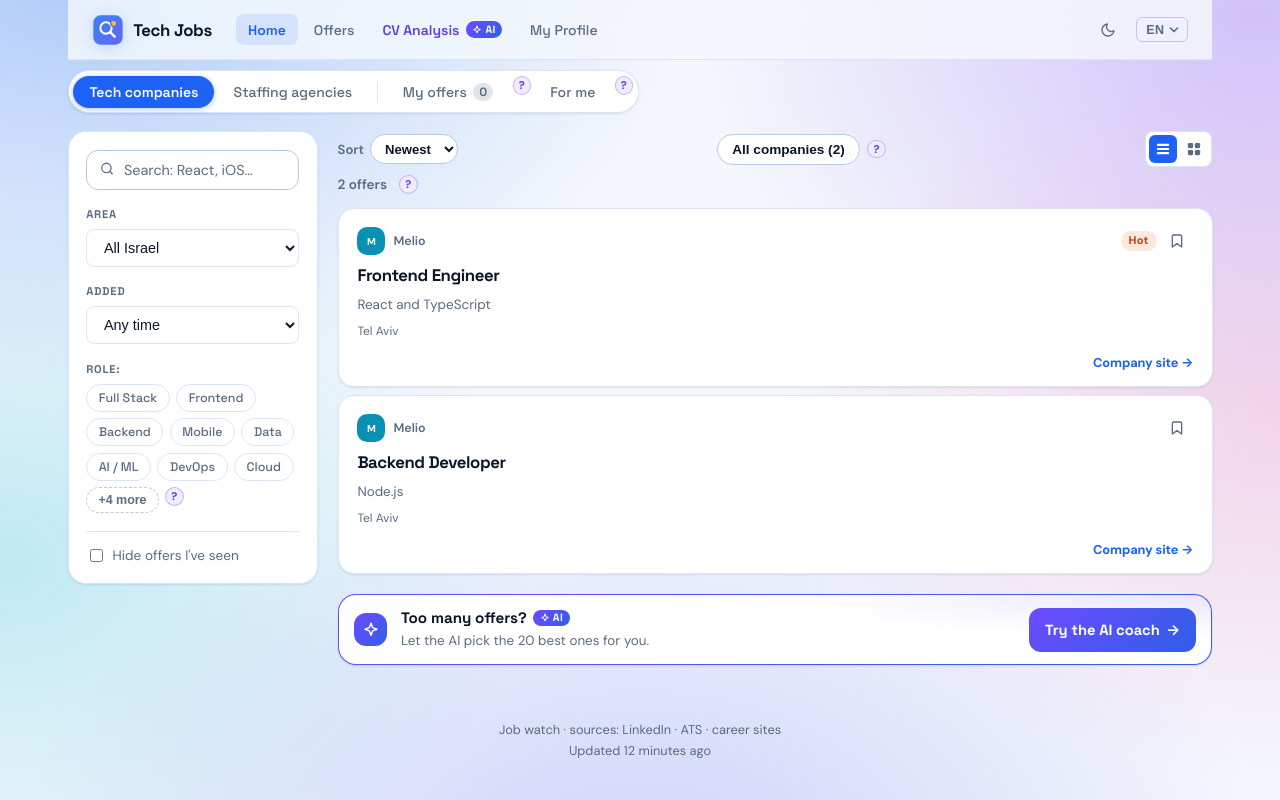
it: JobsPage (integration) › saves an offer: button state, toast, tab counter and localStorage
The width and height of the screenshot is (1280, 800).
Check: the link "Frontend Engineer" is shown, box x1=357 y1=264 x2=499 y2=286
Click the 2nd button named "Save": (1177, 428) x1=1161 y1=412 x2=1193 y2=444
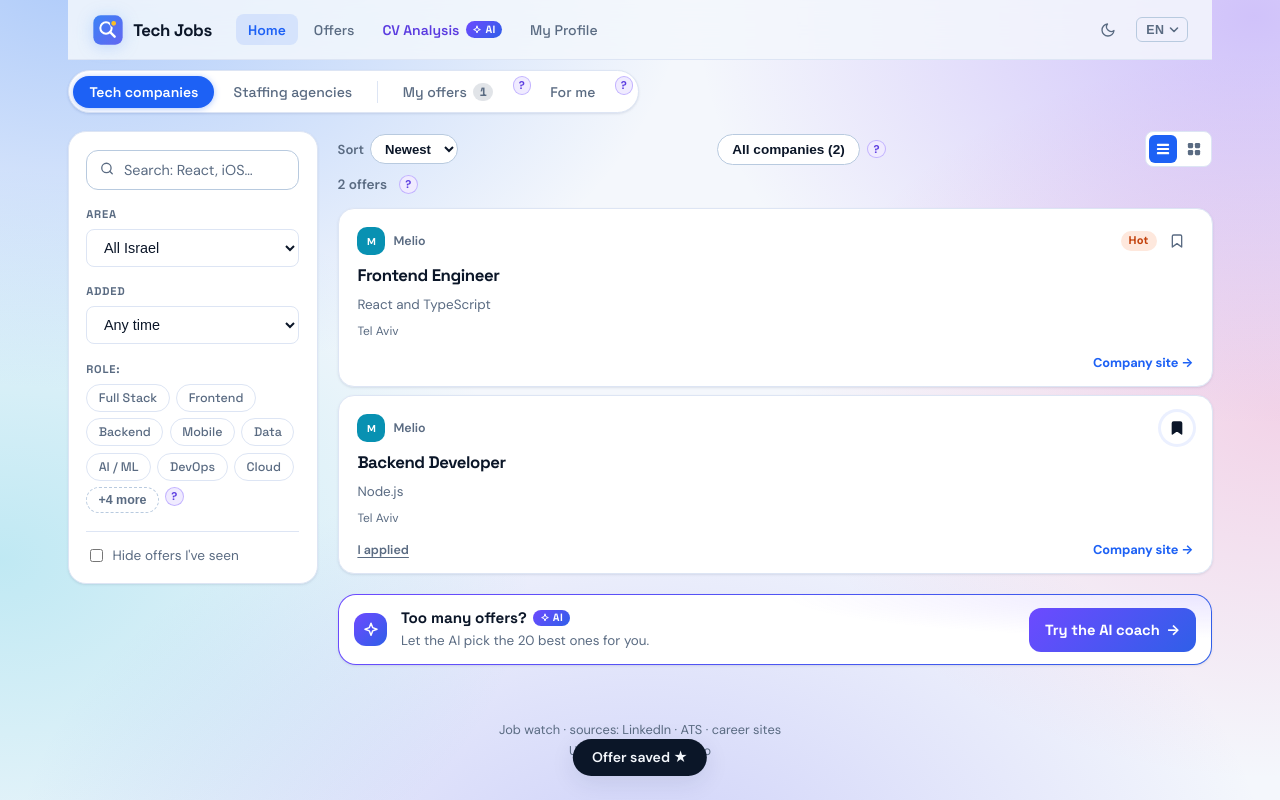
Check: the text "Offer saved ★" is shown, box x1=573 y1=739 x2=707 y2=776
Check: the tab "My offers 1" is shown, box x1=387 y1=76 x2=509 y2=108
